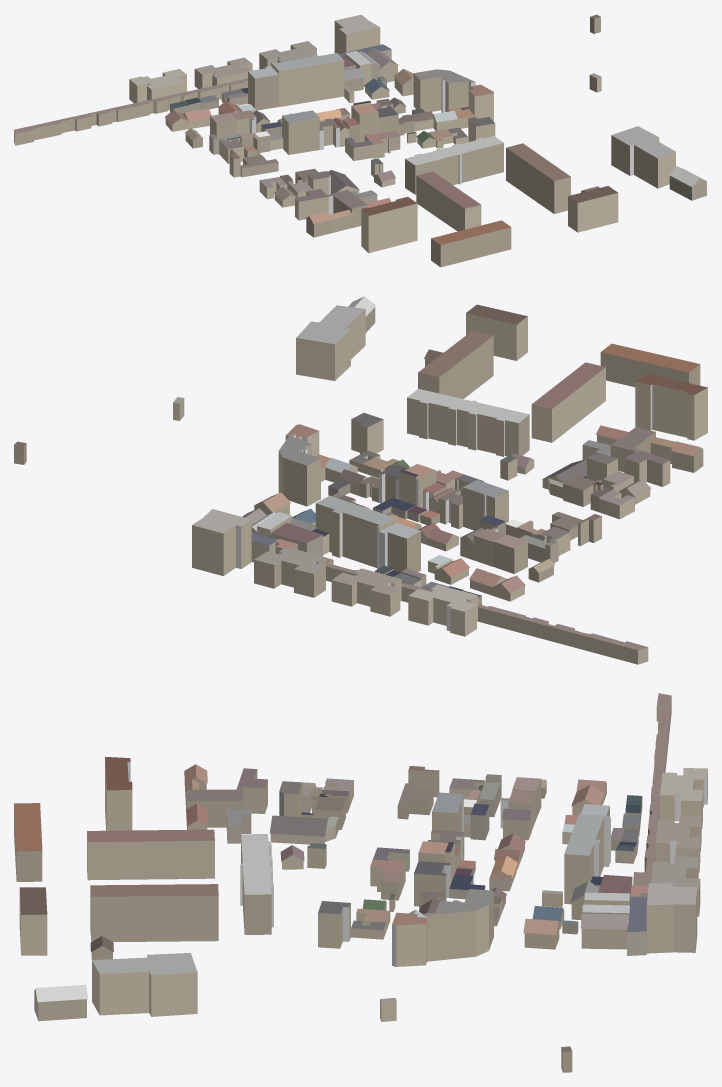
The picture shows the model from 3 angles, top to bottom: view 1: azimuth 30°, elevation 25°; view 2: azimuth 150°, elevation 25°; view 3: azimuth 270°, elevation 25°; orthographic projection. The views are drawn at different scales.
Parts seen in each view (by area): view 1: tuile; view 2: tuile; view 3: tuile.
Part boxes in pixels (box(x1,y1,x2,y2)): tuile: box(14, 14, 706, 267); tuile: box(14, 296, 707, 664); tuile: box(14, 693, 707, 1072).
Size of the model in its own units: 305 by 21.72 by 241.
